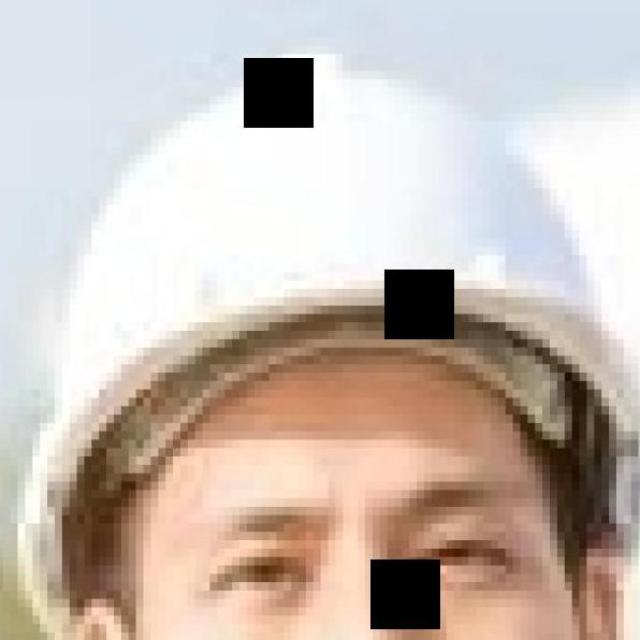white helmet: (10, 47, 640, 637)
